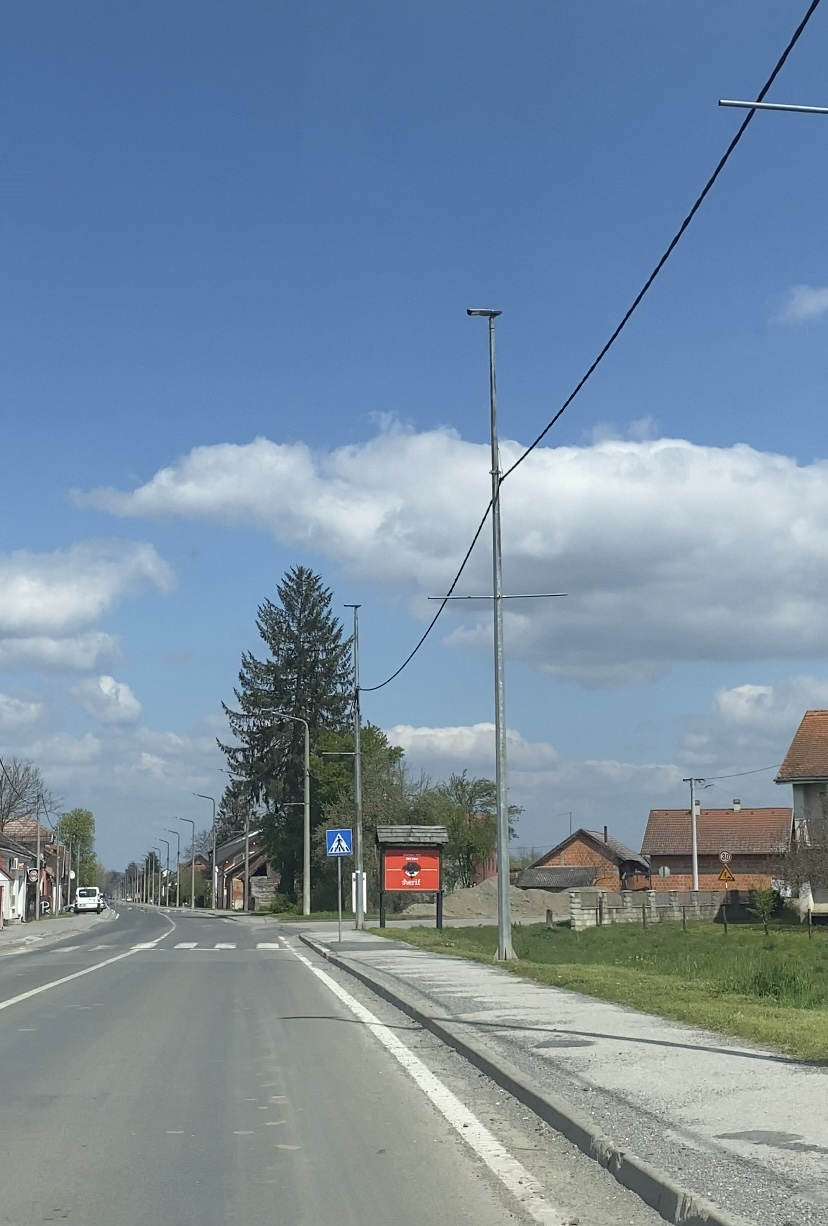Pješački prijelaz: (326, 829, 353, 856)
